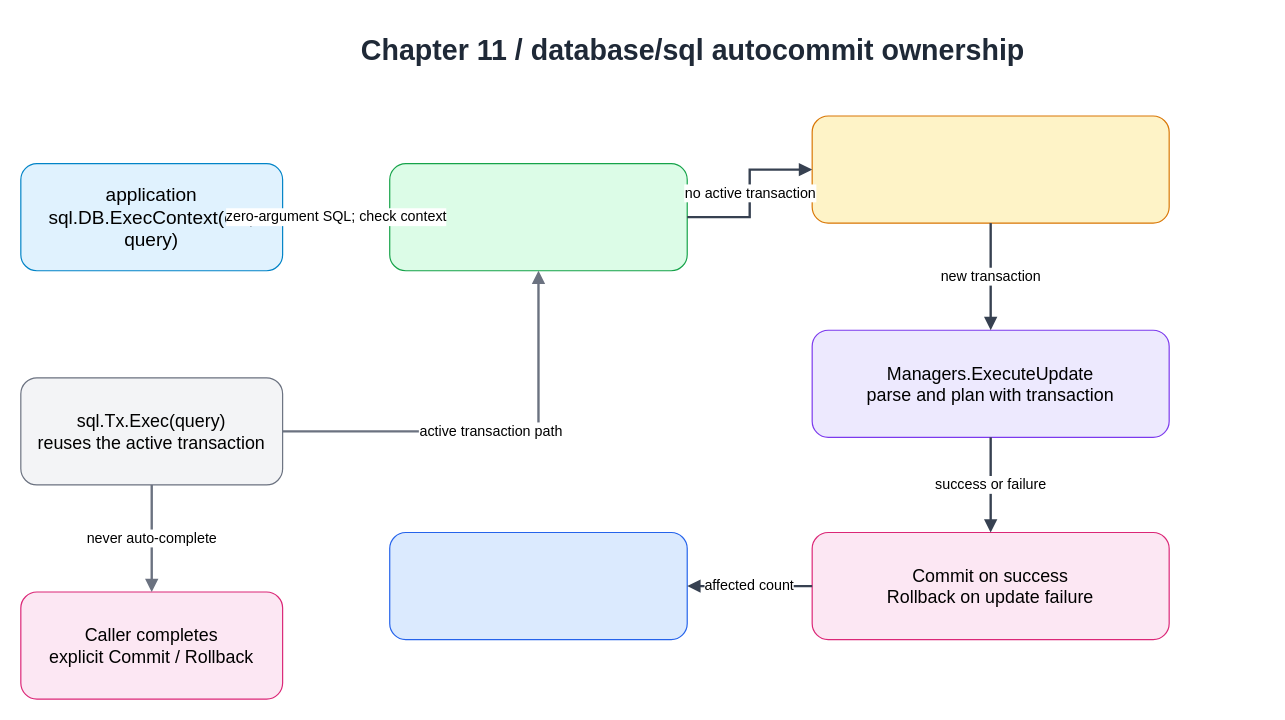
This 1285x720 diagram has some shape labels left out. The shapes that lost their labels are listed below. From the top down, each one's centre as x and y in pixels, then its label:
At point 990,169: "Managers.NewTransaction when no transaction is active".
At point 538,216: "embedded.Connection ExecerContext / Execer".
At point 538,585: "driver.RowsAffected returned to application".
